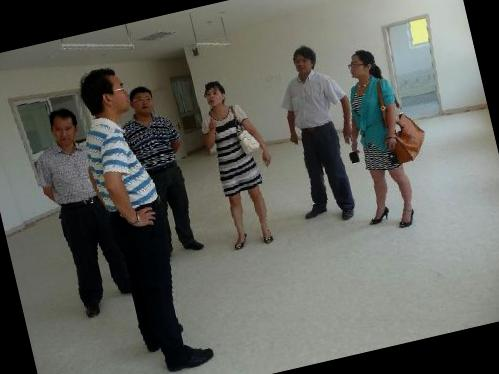no_helmet: (72, 60, 132, 129), (42, 102, 85, 152), (122, 84, 160, 124), (344, 45, 379, 85), (200, 76, 231, 115), (288, 43, 320, 80)
